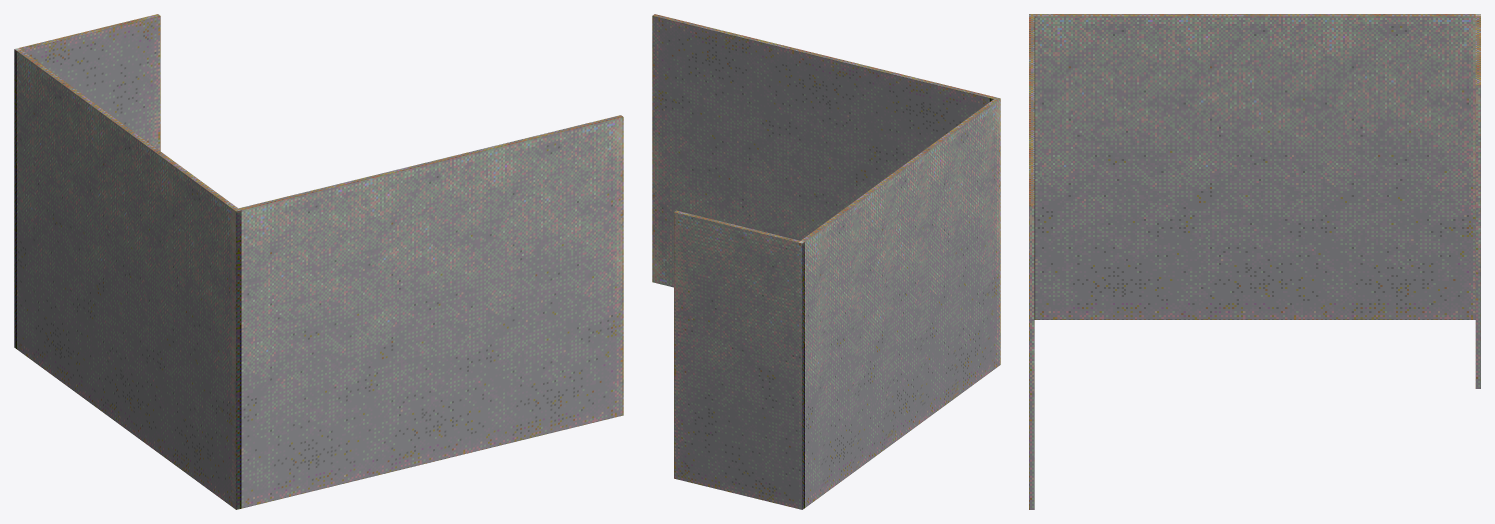
File: Paredes_Escritorio.fbx
3 renders of one model, left to right at view 1: azimuth 30°, elevation 25°; view 2: azimuth 150°, elevation 25°; view 3: azimuth 270°, elevation 25°, orthographic. The views are drawn at different scales.
Parts seen in each view (by area): view 1: Escritorio2; view 2: Escritorio2; view 3: Escritorio2.
Part boxes in pixels (x1,y1,x2,y2): Escritorio2: [14, 14, 623, 509]; Escritorio2: [652, 14, 1000, 509]; Escritorio2: [1029, 14, 1480, 509].
Size of the model in its own units: 10.26 by 7.55 by 10.18.
